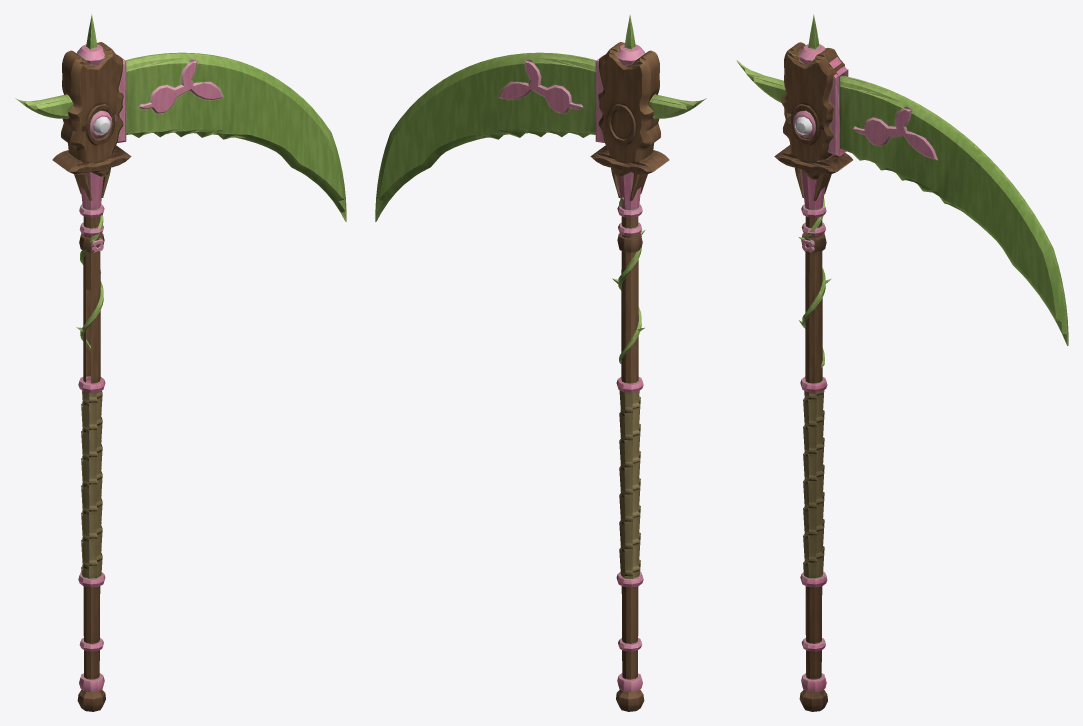
File: Harvest Hush.fbx
3 renders of one model, left to right at view 1: azimuth 30°, elevation 25°; view 2: azimuth 150°, elevation 25°; view 3: azimuth 330°, elevation 25°, orthographic.
Parts seen in each view (by area): view 1: Harvest Hush_Body; view 2: Harvest Hush_Body; view 3: Harvest Hush_Body.
Boxes of the visible parts, left/top/right/bottom form: Harvest Hush_Body: left=15, top=14, right=346, bottom=711; Harvest Hush_Body: left=375, top=14, right=706, bottom=711; Harvest Hush_Body: left=736, top=14, right=1068, bottom=711.
Size of the model in its own units: 3.18 by 6.41 by 0.39.
